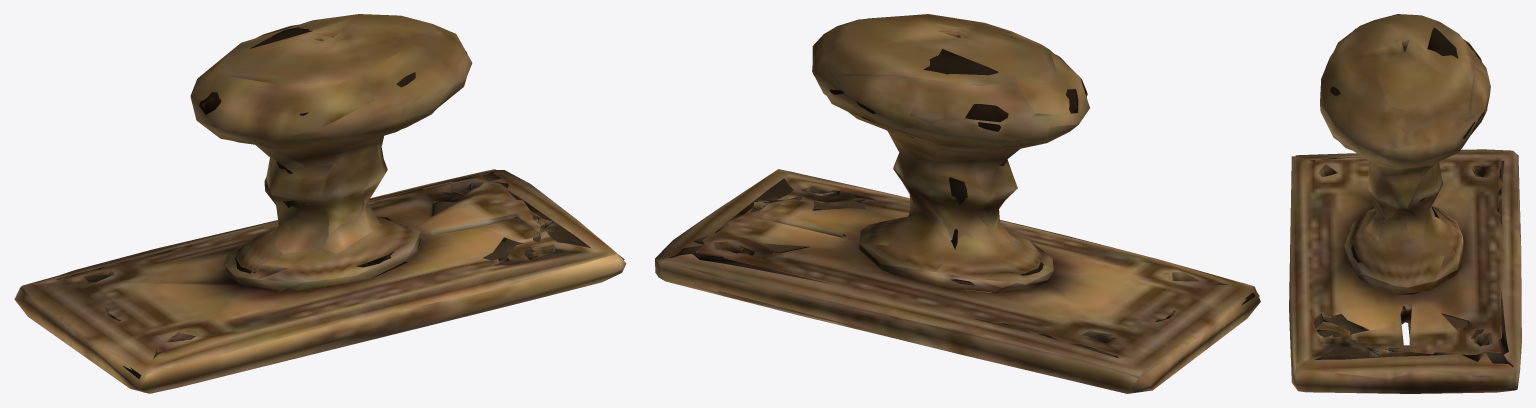
Rendered from picaporte.movil.glb.
3 views of the same model, side by side, from view 1: azimuth 30°, elevation 25°; view 2: azimuth 150°, elevation 25°; view 3: azimuth 270°, elevation 25° (orthographic). The views are drawn at different scales.
Parts seen in each view (by area): view 1: geometry_0; view 2: geometry_0; view 3: geometry_0.
Boxes of the visible parts, left/top/right/bottom form: geometry_0: left=14, top=14, right=626, bottom=393; geometry_0: left=655, top=14, right=1260, bottom=393; geometry_0: left=1289, top=14, right=1521, bottom=393.
Bounding box in the file's own units: 0.1593 × 0.0799 × 0.0692.
1 material, 1 textured.
